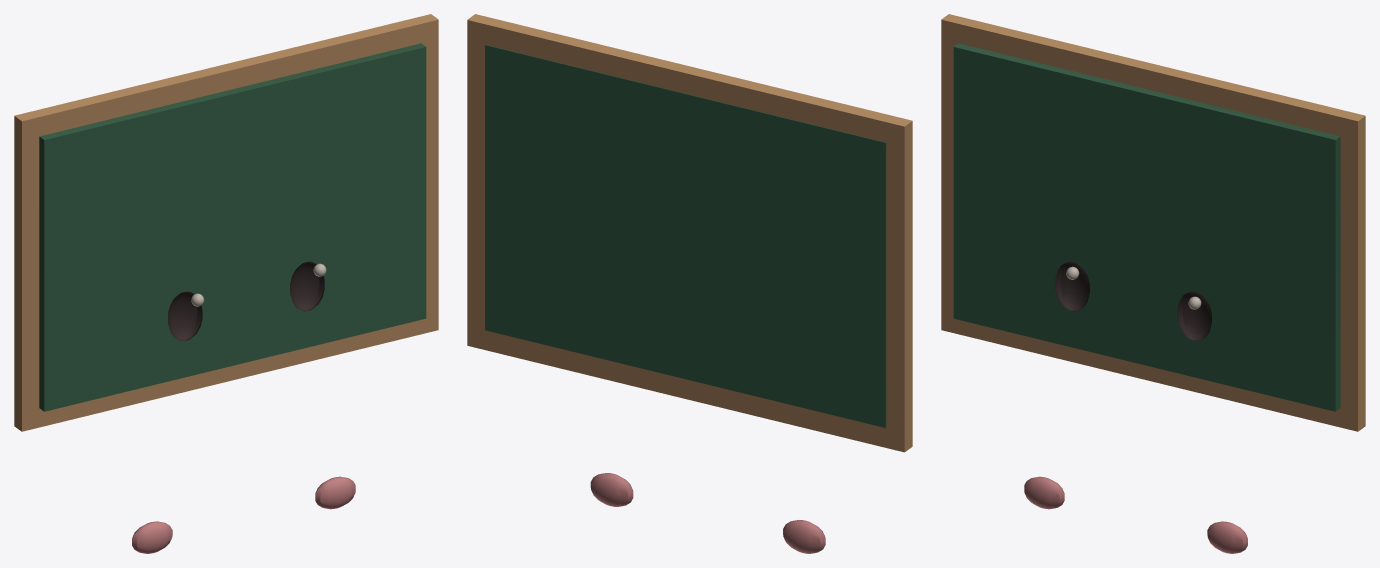
3 views of the same model, side by side, from view 1: azimuth 30°, elevation 25°; view 2: azimuth 150°, elevation 25°; view 3: azimuth 330°, elevation 25° (orthographic). The views are drawn at different scales.
Visible parts, largest first — view 1: pet_pa2fd3895; view 2: pet_pa2fd3895; view 3: pet_pa2fd3895.
Boxes of the visible parts, x1,y1,x2,y2 form: pet_pa2fd3895: (14,14,438,553); pet_pa2fd3895: (467,14,912,553); pet_pa2fd3895: (941,14,1365,553).
Size of the model in its own units: 0.5459 by 0.5631 by 0.0764.
